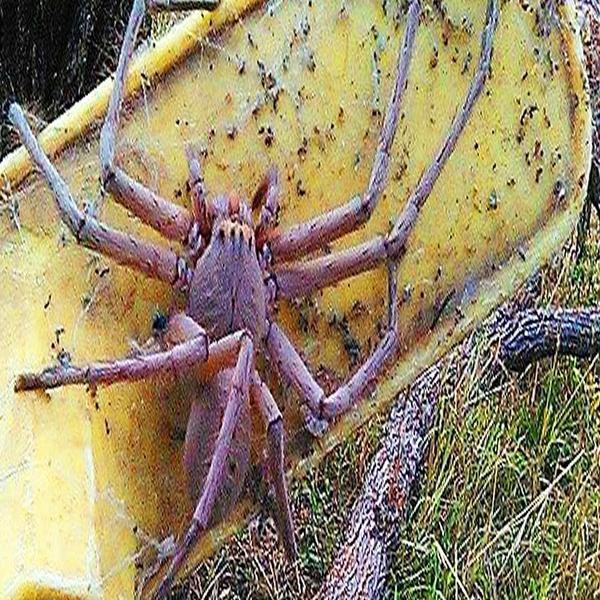Huntsman Spider: (22, 11, 443, 528)
